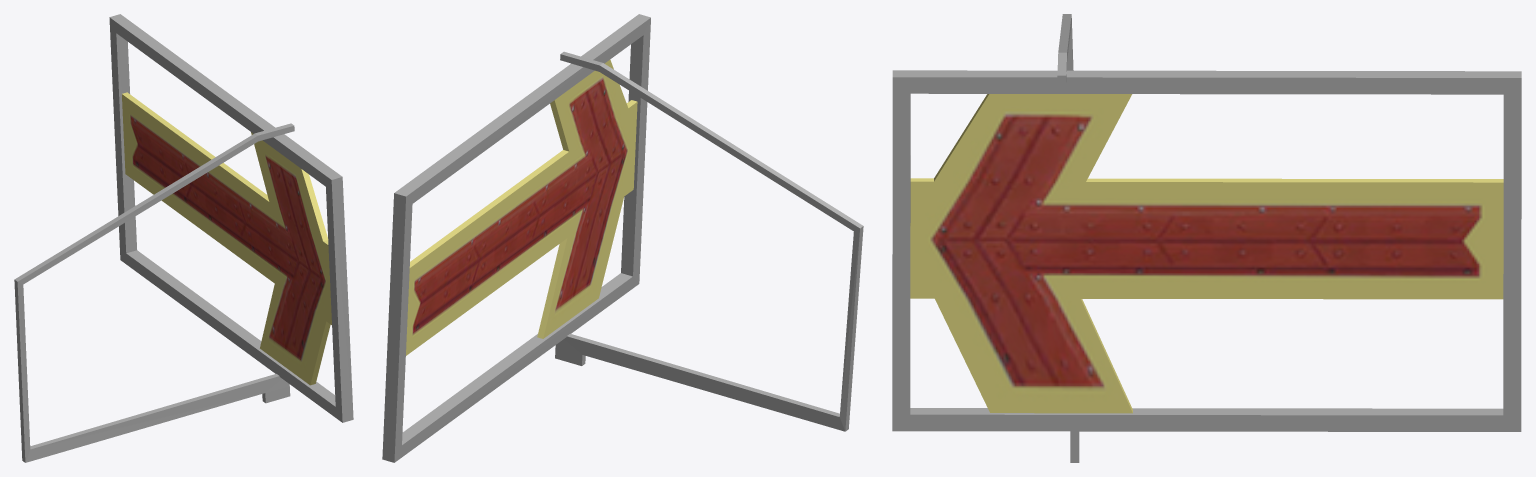
Rendered from Preset_ArrowSignC_L.fbx.
3 renders of one model, left to right at view 1: azimuth 30°, elevation 25°; view 2: azimuth 150°, elevation 25°; view 3: azimuth 270°, elevation 25°, orthographic. The views are drawn at different scales.
Parts seen in each view (by area): view 1: Steel, Resin; view 2: Steel, Resin; view 3: Resin, Steel.
Part boxes in pixels (bbox=[...]): Steel: bbox=[14, 14, 353, 462]; Resin: bbox=[122, 92, 331, 385]; Steel: bbox=[382, 14, 863, 462]; Resin: bbox=[406, 60, 637, 355]; Resin: bbox=[910, 94, 1503, 413]; Steel: bbox=[892, 14, 1521, 462].
Size of the model in its own units: 50.27 by 70.26 by 48.05.
2 materials, 2 textured.
